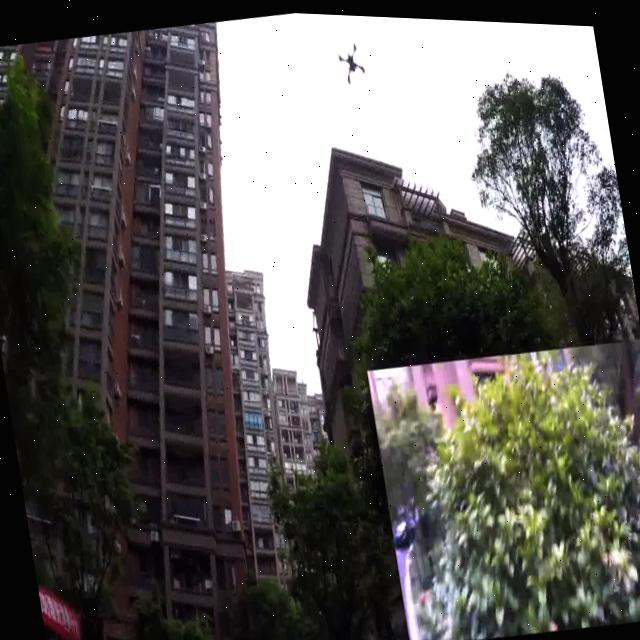drone: (328, 18, 369, 78)
